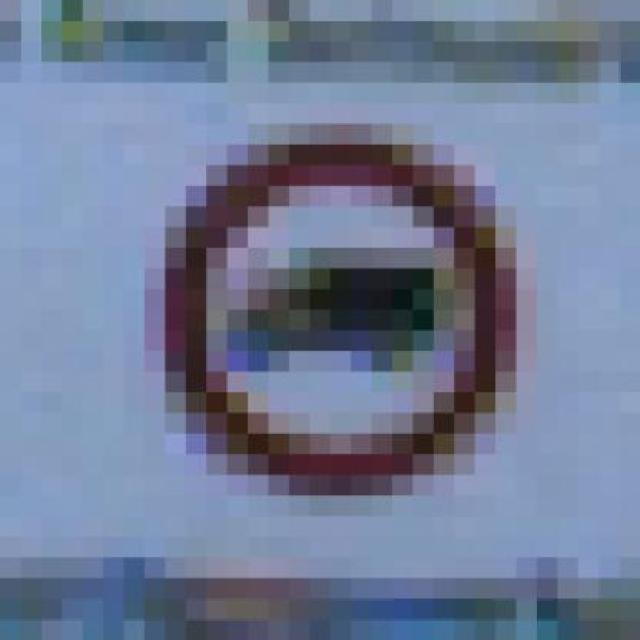Truck traffic is prohibited: (123, 103, 537, 517)
